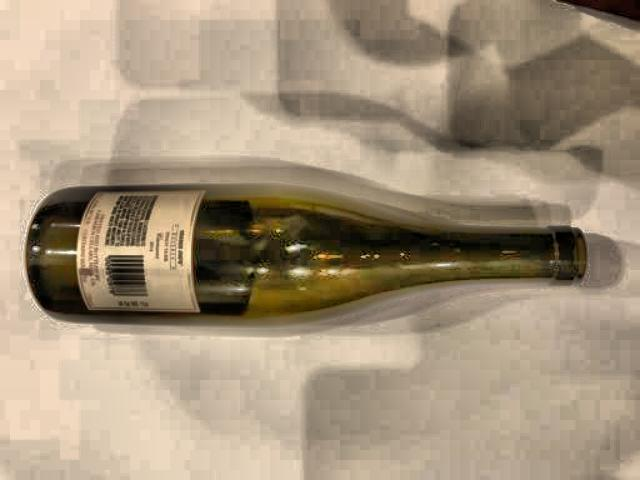Bottles: (20, 164, 609, 383)
